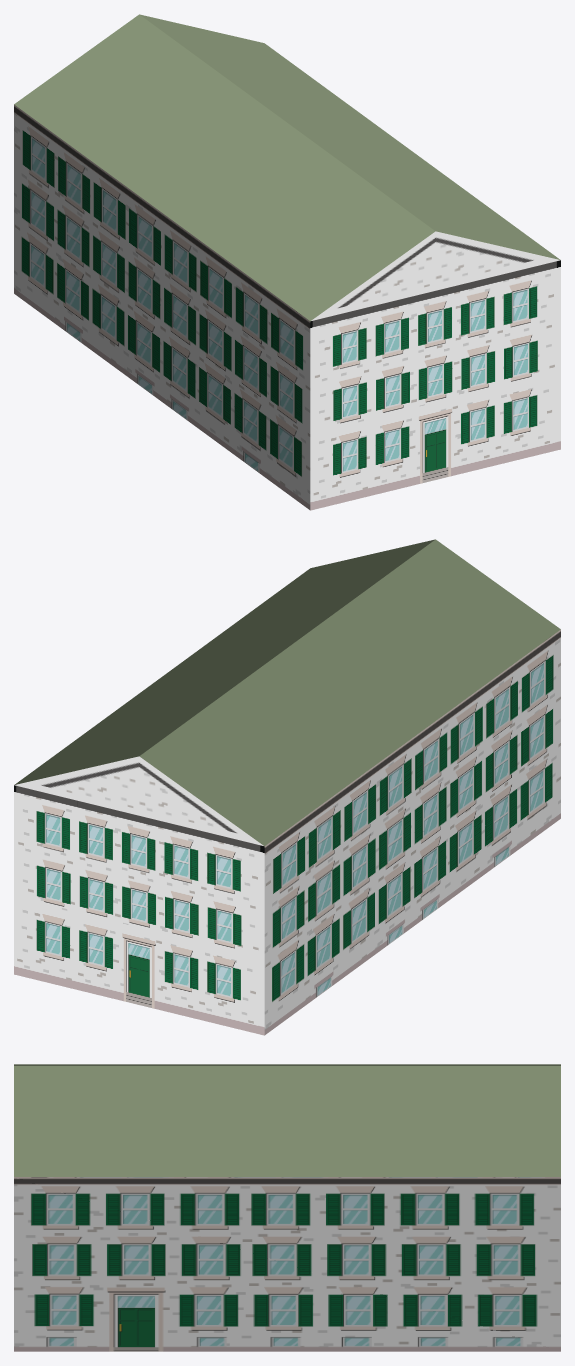
File: ReedHall.gltf
3 renders of one model, top to bottom at view 1: azimuth 30°, elevation 25°; view 2: azimuth 150°, elevation 25°; view 3: azimuth 270°, elevation 25°, orthographic. The views are drawn at different scales.
Visible parts, largest first — view 1: node-0; view 2: node-0; view 3: node-0.
Part boxes in pixels (x1,y1,x2,y2): node-0: [14, 14, 560, 510]; node-0: [14, 539, 560, 1035]; node-0: [14, 1064, 560, 1351].
Bounding box in the file's own units: 41.37 × 39.23 × 84.75.
Materials: 7 (4 with a texture image).
